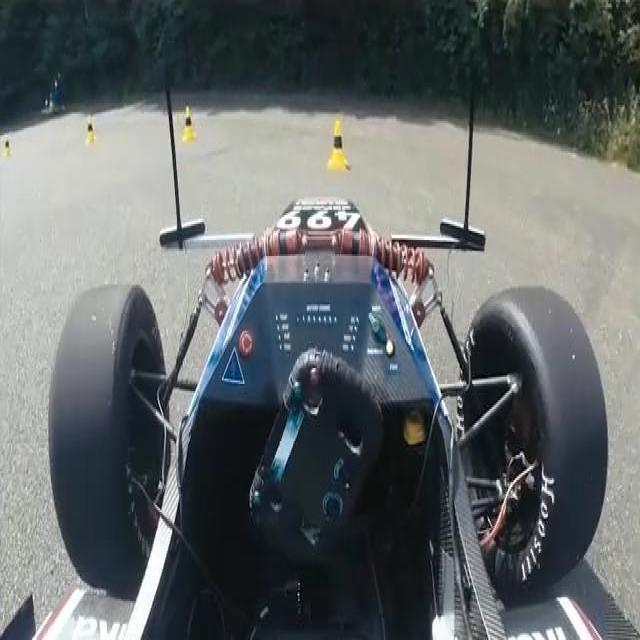yellow_cone: (325, 116, 357, 182), (177, 105, 199, 146), (84, 110, 103, 143), (4, 133, 14, 158)
